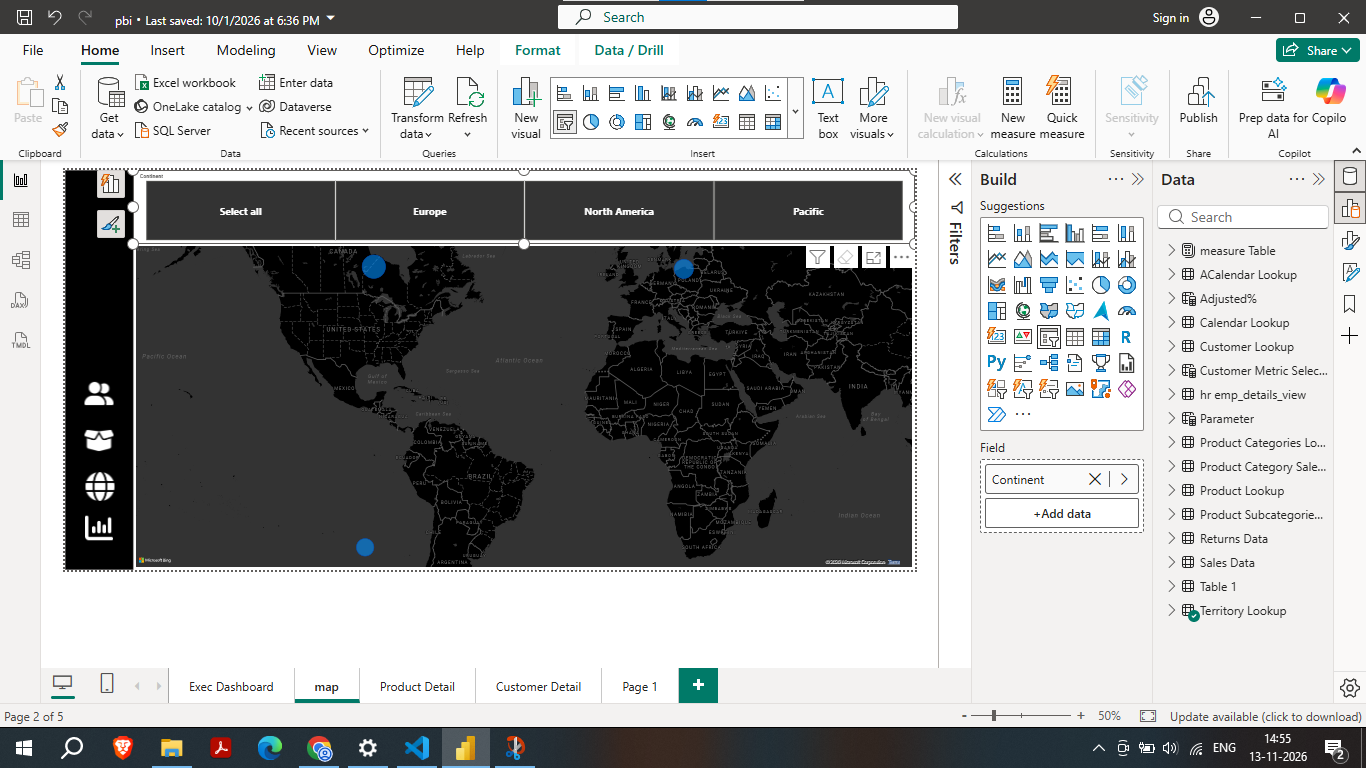

The page's visual inventory and layout, read from the dashboard file:
{"tool":"powerbi","page":{"name":"map","canvas":[1700,800],"ordinal":1},"visuals":[{"type":"shape","box":[0,0,137.5,800],"z":0},{"type":"slicer","fields":{"Values":["Territory Lookup.Continent"]},"box":[136,0,1564,148],"z":1000},{"type":"map","fields":{"Category":["Territory Lookup.Continent"],"Size":["measure Table.Total Orders"]},"box":[138,148,1562,652],"z":2000},{"type":"actionButton","box":[18,414,100,66],"z":3000},{"type":"actionButton","box":[18,508,100,66],"z":4000},{"type":"actionButton","box":[20,600,100,66],"z":5000},{"type":"actionButton","box":[18,684,100,64],"z":6000}]}

Visuals, with their boxes on the page's 1700x800 design canvas (x1, y1, x2, y2). These are canvas units, not pixel positions in the 1366x768 screenshot, which may show the page scaled, cropped or inside an application window:
shape: {"x1": 0, "y1": 0, "x2": 138, "y2": 800}
slicer - Territory Lookup.Continent: {"x1": 136, "y1": 0, "x2": 1700, "y2": 148}
map - Territory Lookup.Continent x measure Table.Total Orders: {"x1": 138, "y1": 148, "x2": 1700, "y2": 800}
actionButton: {"x1": 18, "y1": 414, "x2": 118, "y2": 480}
actionButton: {"x1": 18, "y1": 508, "x2": 118, "y2": 574}
actionButton: {"x1": 20, "y1": 600, "x2": 120, "y2": 666}
actionButton: {"x1": 18, "y1": 684, "x2": 118, "y2": 748}
